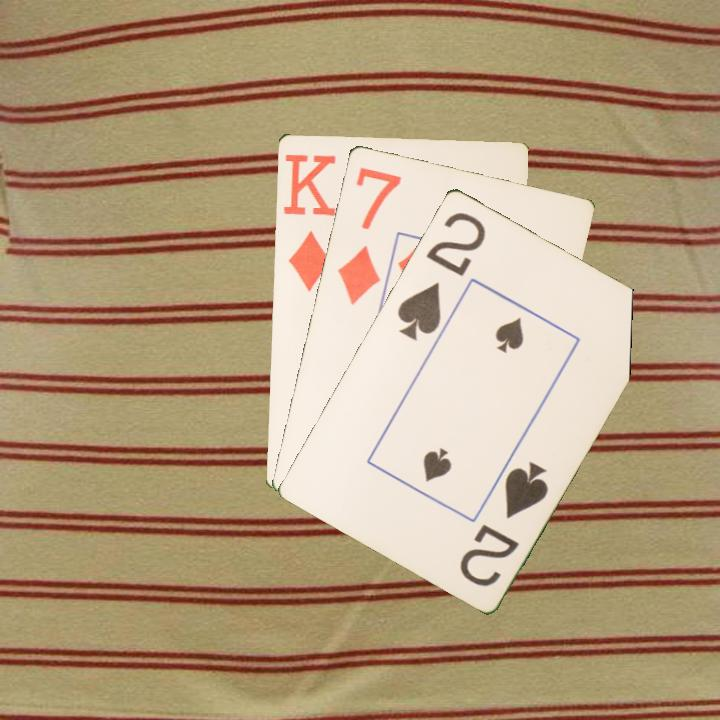2s: (393, 208, 489, 343), (455, 456, 552, 589)
7d: (333, 162, 404, 307)
Kd: (280, 150, 339, 293)
